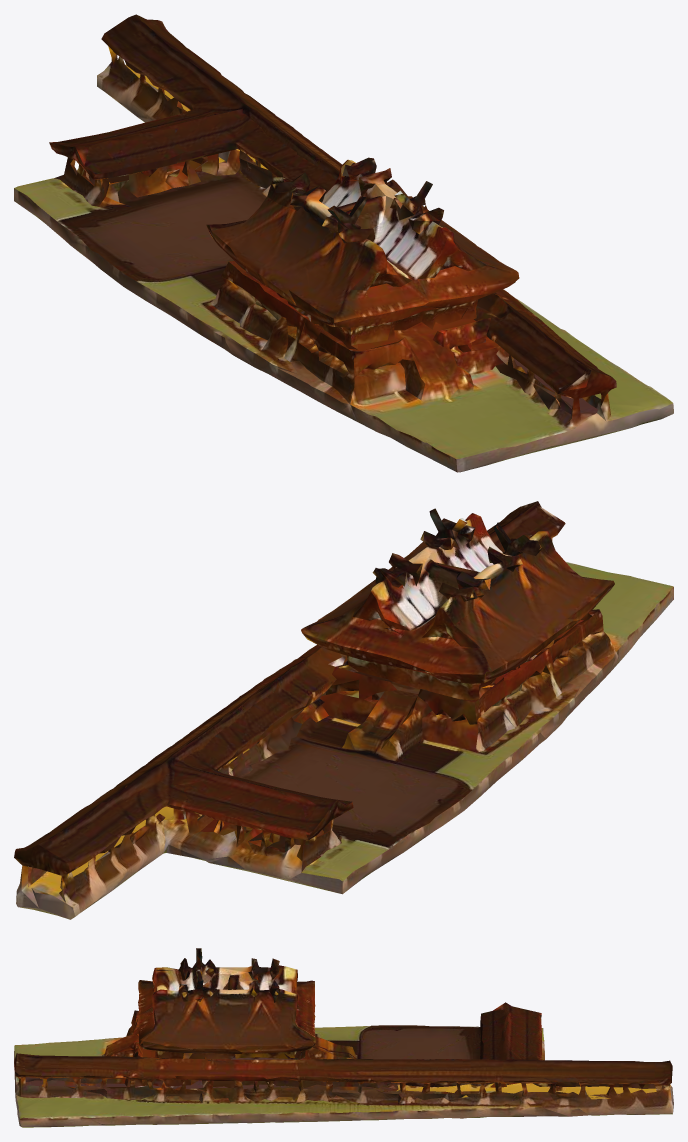
The model's file is kibitsu-jinja.glb.
The picture shows the model from 3 angles, top to bottom: view 1: azimuth 30°, elevation 25°; view 2: azimuth 150°, elevation 25°; view 3: azimuth 270°, elevation 25°; orthographic projection. The views are drawn at different scales.
Visible parts, largest first — view 1: logan-textured.obj; view 2: logan-textured.obj; view 3: logan-textured.obj.
Part boxes in pixels (x1,y1,x2,y2): logan-textured.obj: (14, 14, 673, 472); logan-textured.obj: (14, 501, 673, 919); logan-textured.obj: (14, 948, 673, 1127).
Bounding box in the file's own units: 0.3364 × 0.1903 × 1.
Materials: 1 (1 with a texture image).
